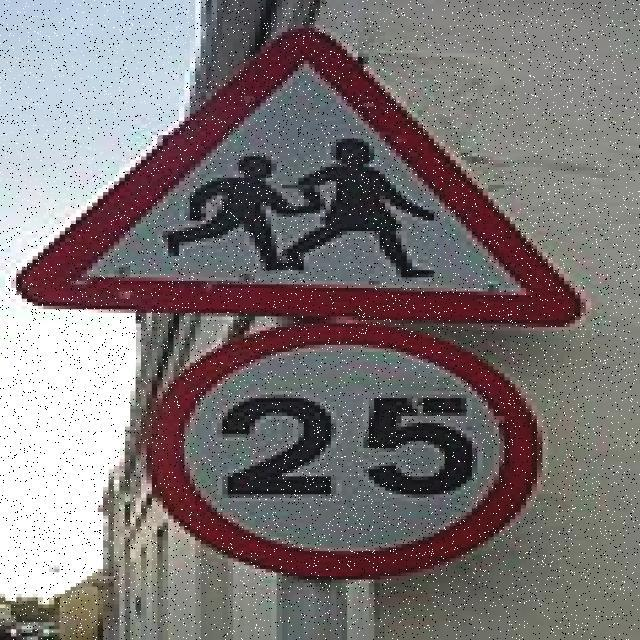Traffic sign: (4, 21, 594, 589)
